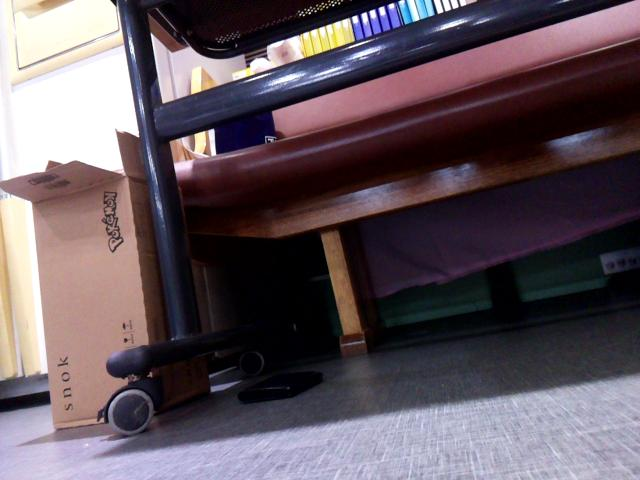wallet: (240, 363, 331, 407)
